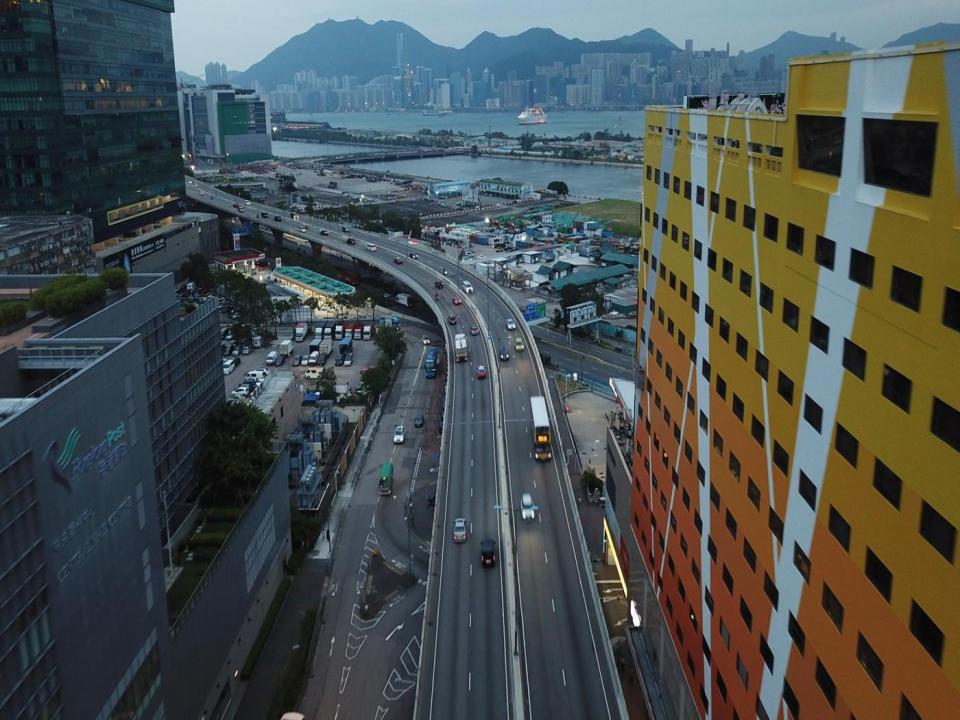bus: (529, 396, 555, 460), (378, 461, 395, 496), (424, 346, 439, 380), (340, 336, 353, 355)
car: (480, 536, 498, 569), (520, 492, 536, 523), (452, 516, 467, 543), (514, 336, 526, 354), (499, 344, 510, 361), (476, 365, 487, 380), (413, 413, 424, 428), (365, 241, 378, 253), (506, 317, 516, 331), (421, 332, 431, 346), (334, 354, 344, 368), (452, 295, 463, 307), (470, 324, 480, 337), (435, 277, 445, 289), (408, 250, 420, 260), (274, 356, 284, 368), (448, 312, 456, 326), (292, 354, 300, 368), (393, 256, 404, 266), (346, 235, 355, 247), (300, 354, 308, 366), (317, 354, 326, 364), (341, 225, 352, 233), (297, 225, 306, 234), (289, 212, 300, 219), (260, 210, 269, 218), (320, 229, 330, 236), (274, 215, 282, 223), (243, 198, 251, 206), (237, 205, 245, 211), (187, 178, 193, 186), (194, 181, 200, 188), (233, 202, 239, 208)
truck: (378, 312, 403, 334), (453, 334, 469, 364), (394, 290, 415, 309), (278, 336, 294, 360), (294, 320, 306, 342), (319, 337, 334, 354), (343, 322, 356, 339), (315, 319, 325, 341), (362, 322, 373, 341), (308, 338, 319, 354), (324, 320, 334, 336), (354, 322, 363, 339), (337, 320, 344, 341)
van: (302, 367, 325, 379), (393, 425, 405, 445), (461, 279, 474, 294), (266, 350, 276, 365), (343, 354, 353, 366), (308, 352, 316, 367), (198, 189, 204, 197)
